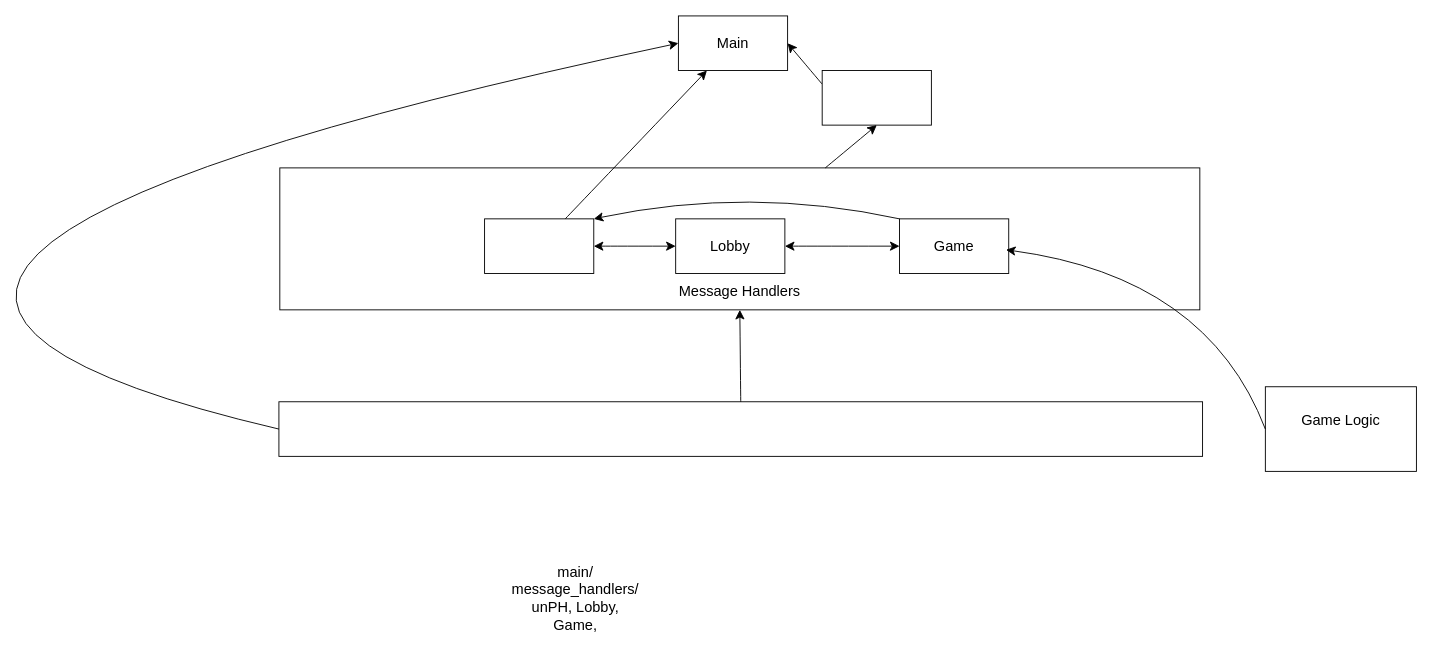
This 1432x649 diagram has some shape labels left out. Here are the shapes that lost their labels. From the top down, the centre of each, then its label:
At [876,97]: "Handshake".
At [539,245]: "unPH".
At [740,428]: "Message Handler Interface".
